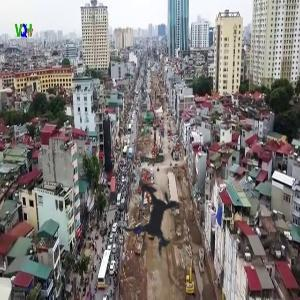drone: (83, 145, 224, 286)
